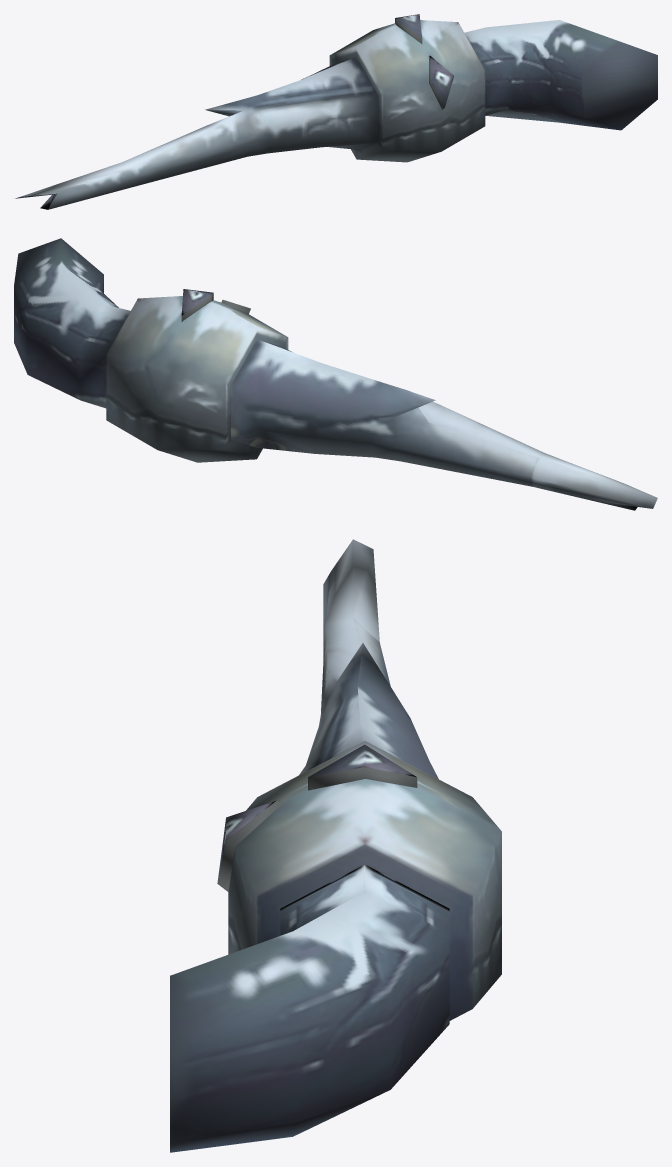
Rendered from Beidaying_lg.FBX.
3 renders of one model, top to bottom at view 1: azimuth 30°, elevation 25°; view 2: azimuth 150°, elevation 25°; view 3: azimuth 270°, elevation 25°, orthographic. The views are drawn at different scales.
Parts seen in each view (by area): view 1: Beidaying_lg; view 2: Beidaying_lg; view 3: Beidaying_lg.
Boxes of the visible parts, x1,y1,x2,y2 form: Beidaying_lg: (15, 14, 657, 209); Beidaying_lg: (14, 238, 657, 510); Beidaying_lg: (170, 539, 501, 1152).
Bounding box in the file's own units: 1647 × 399 × 386.
